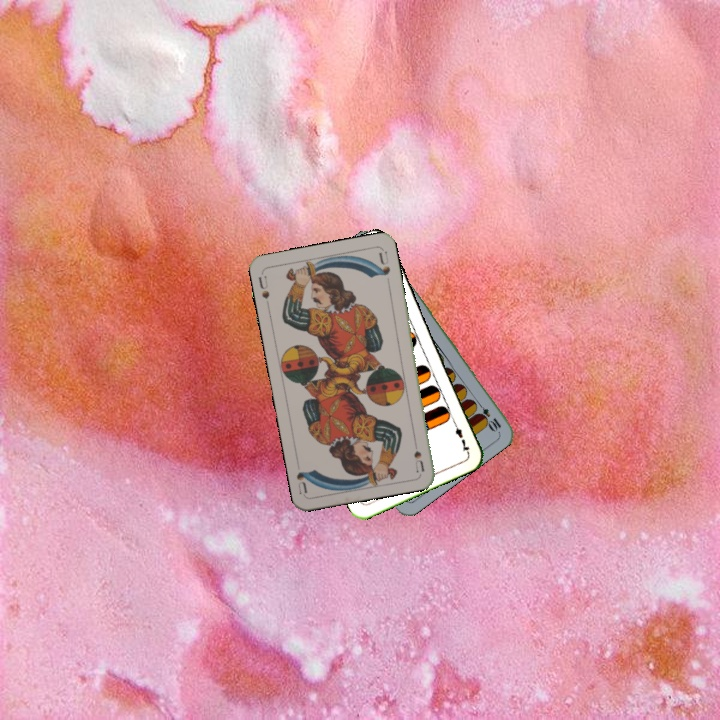E10: (472, 398, 504, 433)
E7: (449, 417, 472, 455)
SU: (409, 433, 427, 474), (254, 272, 272, 310)
